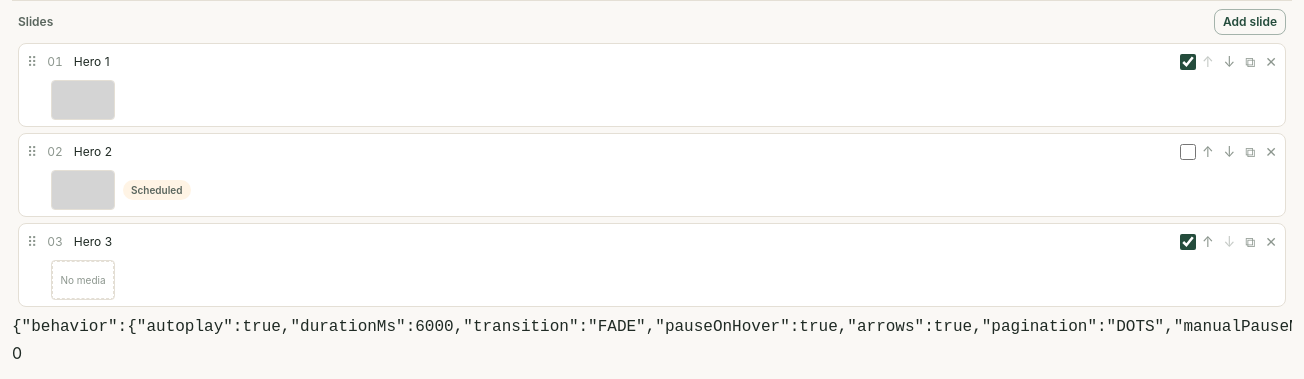
Scenario: SlideList › renders a card per slide with index, thumbnail, schedule badge and selection
The width and height of the screenshot is (1304, 379).
Expected: the text "01" is shown, [47,54,63,69]
Expected: the text "02" is shown, [47,144,63,159]
Click the button named "Hero 2" at (55, 152), box [43,140,67,164]
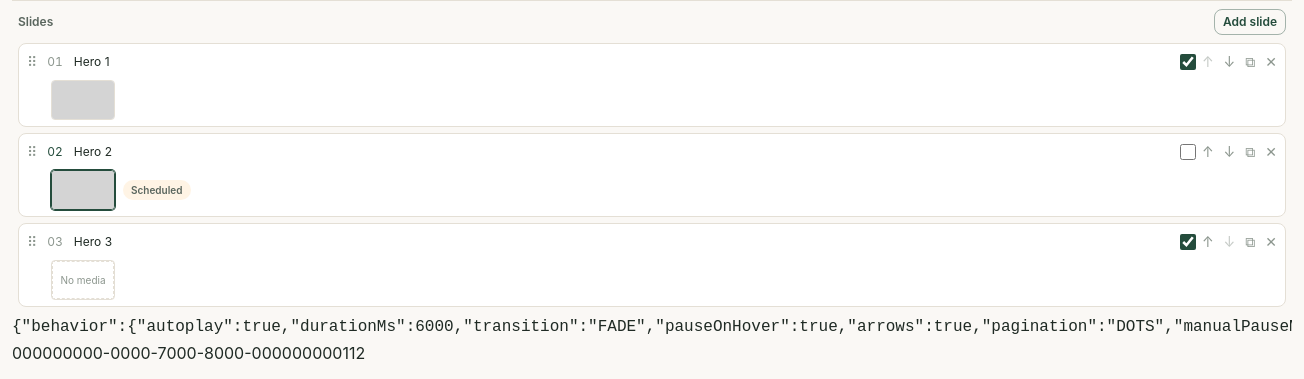
Expected: the text with test id "selected-slide" reads "00000000-0000-7000-8000-000000000112", [22,343,365,363]
